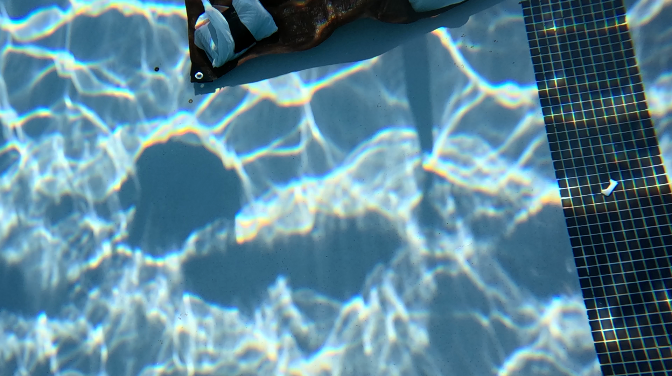sandbag: (186, 0, 472, 82)
